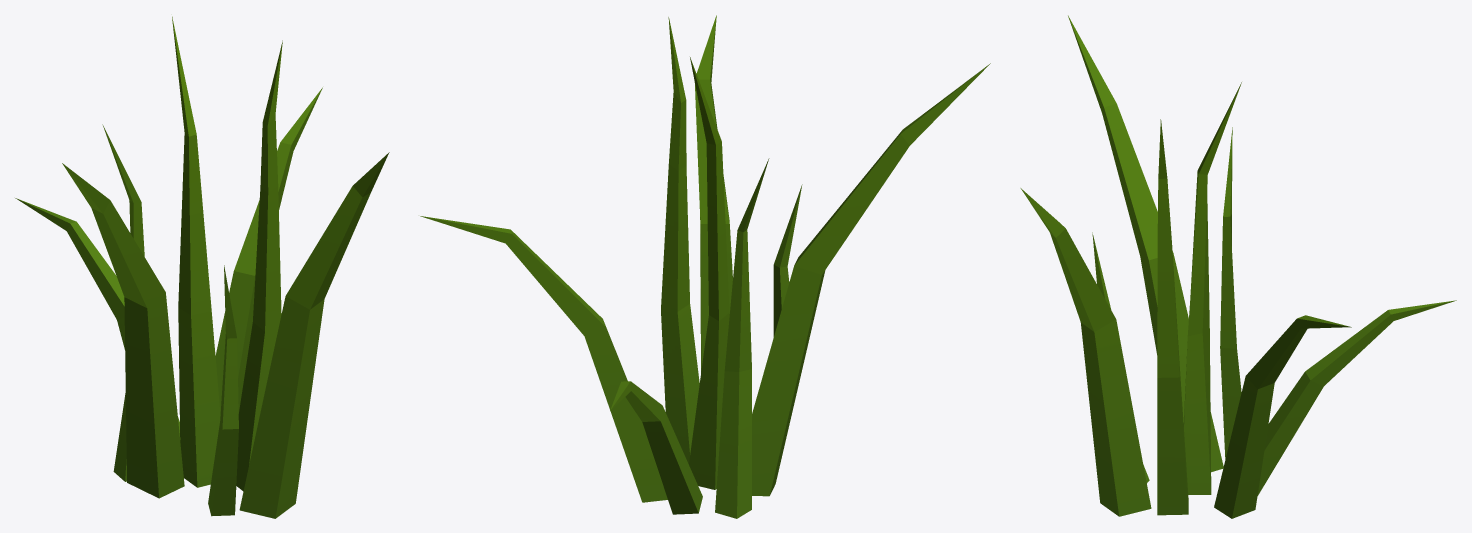
Rendered from SM_Nature_Grass_02.fbx.
3 renders of one model, left to right at view 1: azimuth 30°, elevation 25°; view 2: azimuth 150°, elevation 25°; view 3: azimuth 270°, elevation 25°, orthographic. The views are drawn at different scales.
Parts seen in each view (by area): view 1: SM_Nature_Grass_02_LOD0; view 2: SM_Nature_Grass_02_LOD0; view 3: SM_Nature_Grass_02_LOD0.
Part boxes in pixels (x1=…): SM_Nature_Grass_02_LOD0: x1=15, y1=16, x2=389, y2=518; SM_Nature_Grass_02_LOD0: x1=420, y1=15, x2=990, y2=518; SM_Nature_Grass_02_LOD0: x1=1020, y1=15, x2=1456, y2=518.
Bounding box in the file's own units: 0.4174 × 0.4367 × 0.4167.
